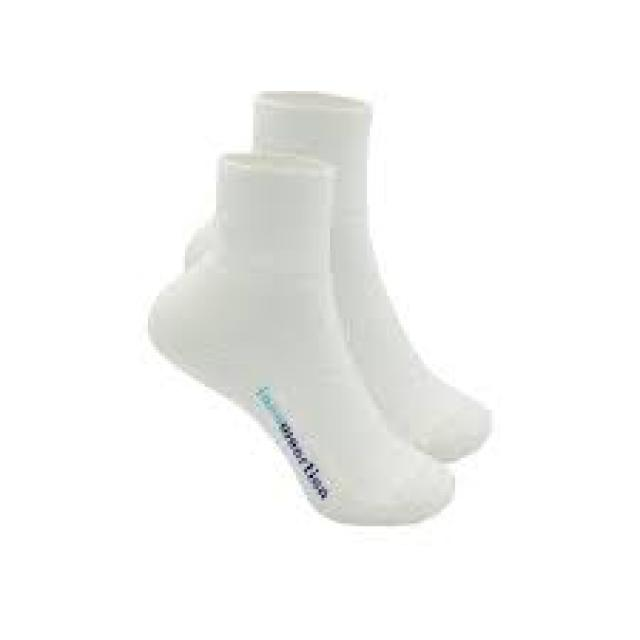sock: (145, 148, 455, 526), (250, 88, 492, 464)
